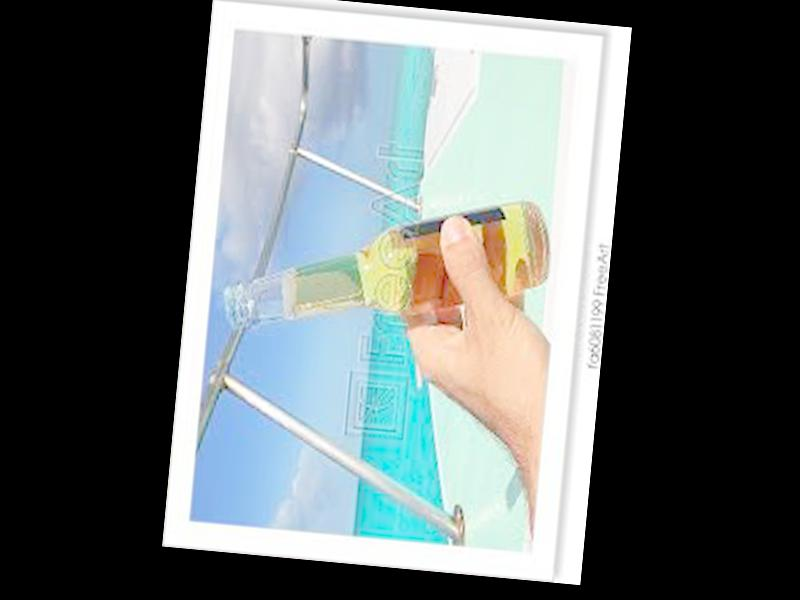Beer: (222, 172, 550, 364)
